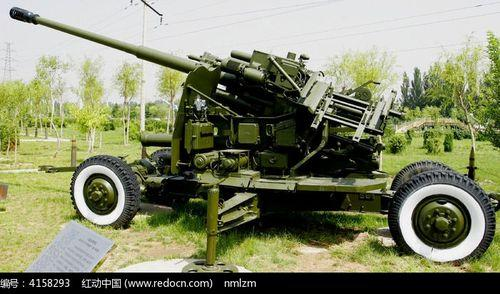MIL_SPG: (11, 9, 495, 262)
